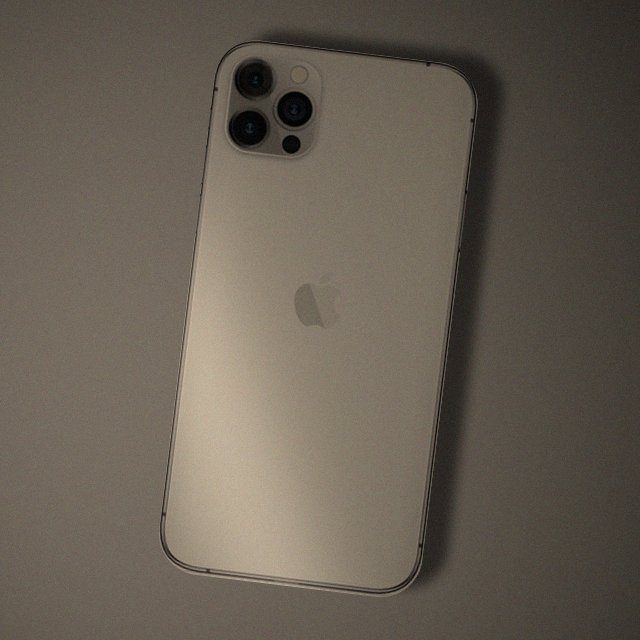iphone_12pro_silver: (158, 22, 489, 608), (216, 45, 333, 168)
